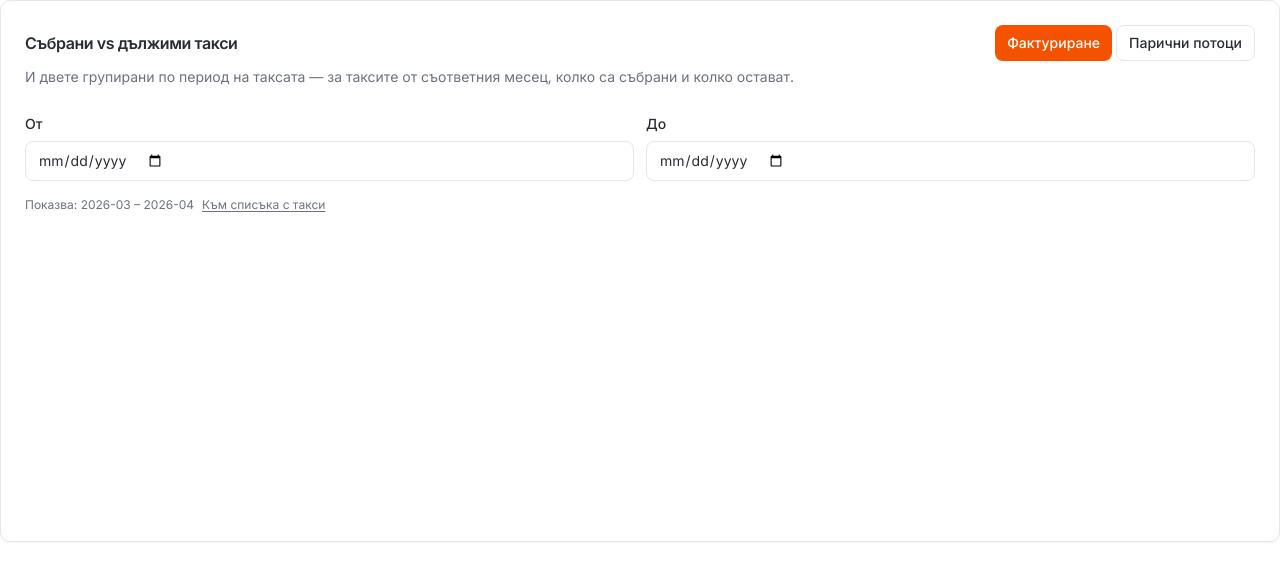
Test: FeesChart › date filters › shows a clear button only for the field that holds a value
Expected: the row with test id "chart-row-2026-03" is shown, left=24, top=542, right=250, bottom=568
Type "2026-01-01" into the date field labelled "От" at (330, 161), box left=25, top=141, right=634, bottom=181
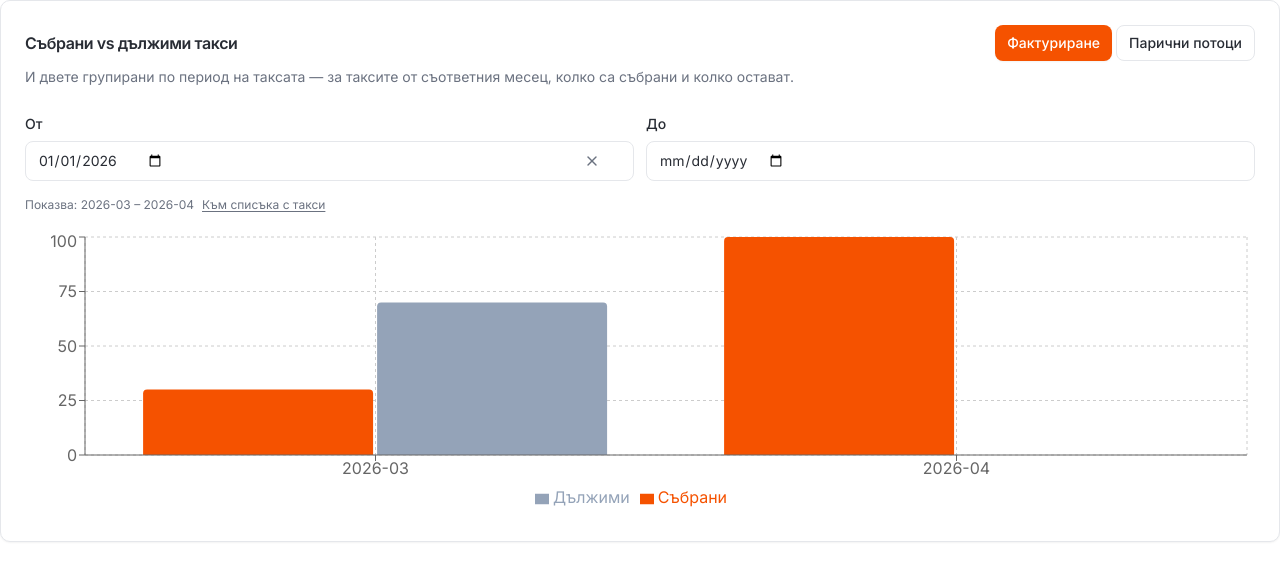
Expected: the button named "Изчистване на началната дата" is shown, left=578, top=147, right=606, bottom=175
